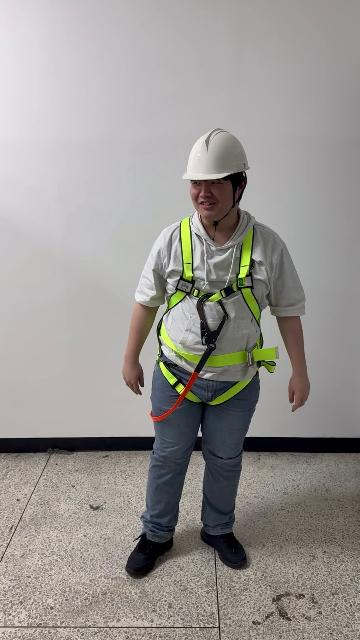helmet_worn: (181, 128, 251, 180)
shoe_not_worn: (125, 533, 174, 577), (200, 527, 246, 569)
vest_worn: (153, 219, 273, 403)
